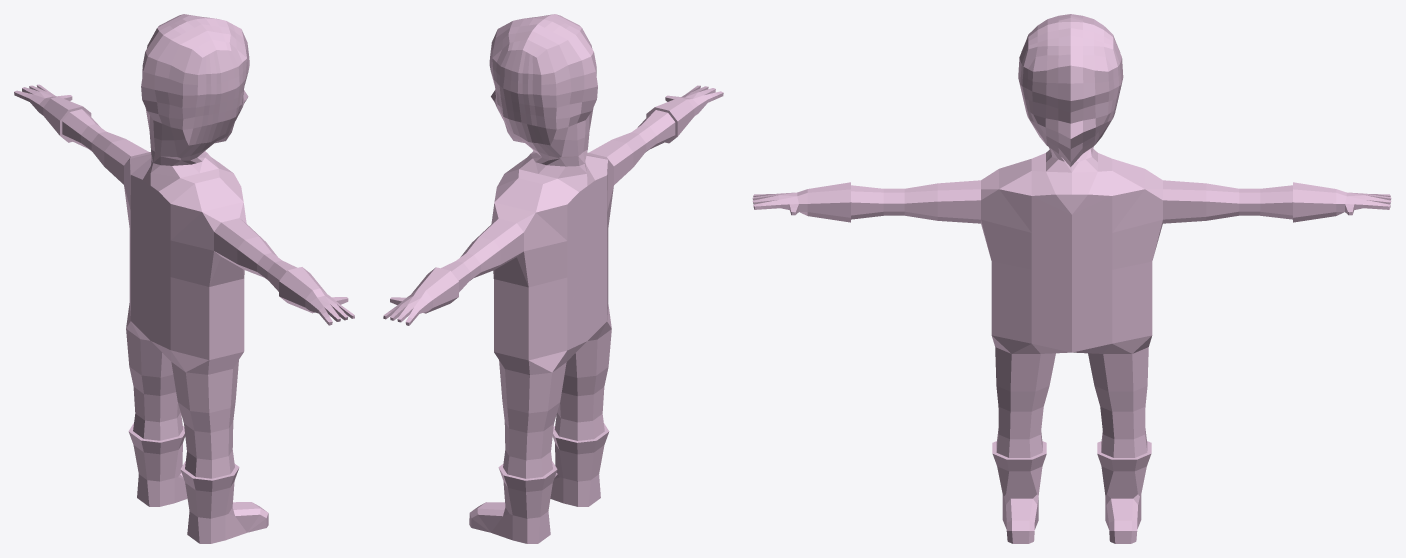
The model's file is Main.fbx.
3 views of the same model, side by side, from view 1: azimuth 30°, elevation 25°; view 2: azimuth 150°, elevation 25°; view 3: azimuth 270°, elevation 25° (orthographic).
Visible parts, largest first — view 1: Cube; view 2: Cube; view 3: Cube.
Part boxes in pixels (<box>): Cube: <box>14,14,354,543</box>; Cube: <box>383,14,723,543</box>; Cube: <box>752,14,1391,543</box>.
Bounding box in the file's own units: 155 × 677 × 784.
